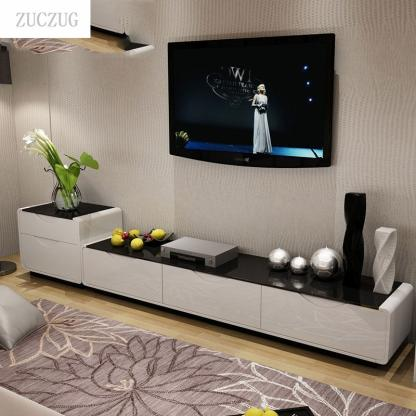TV stand: (15, 198, 416, 364)
